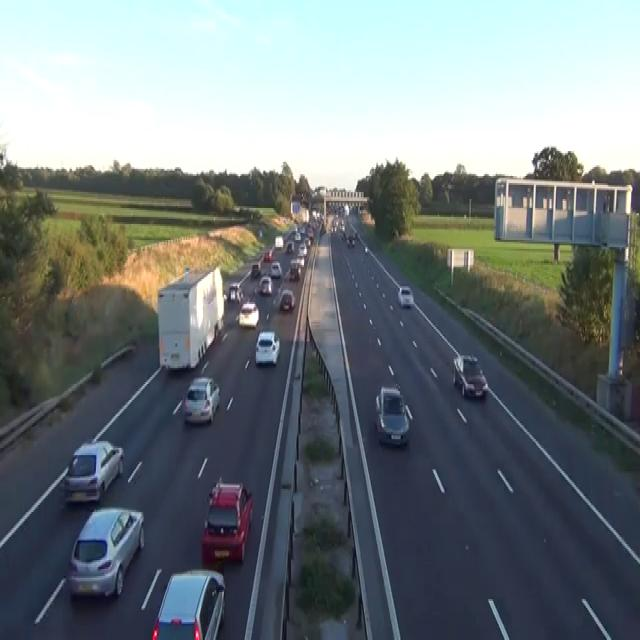Car: (66, 507, 144, 599), (151, 569, 225, 638), (201, 476, 253, 566), (63, 439, 124, 503), (374, 386, 410, 446), (182, 375, 220, 425), (452, 354, 488, 398), (255, 331, 280, 366), (237, 301, 259, 327), (397, 284, 413, 308), (279, 288, 295, 309), (227, 283, 243, 302), (257, 276, 272, 295), (283, 265, 299, 281), (289, 260, 300, 279), (270, 262, 282, 278), (251, 262, 260, 278), (263, 249, 273, 261), (297, 244, 307, 256), (275, 235, 283, 249), (296, 254, 304, 267), (346, 235, 354, 247), (286, 240, 294, 252), (294, 231, 301, 242), (343, 203, 349, 215), (304, 237, 311, 247), (319, 224, 325, 235), (340, 229, 346, 240), (223, 290, 227, 300), (258, 228, 262, 238), (364, 245, 368, 252)
Truck: (156, 265, 224, 371)
